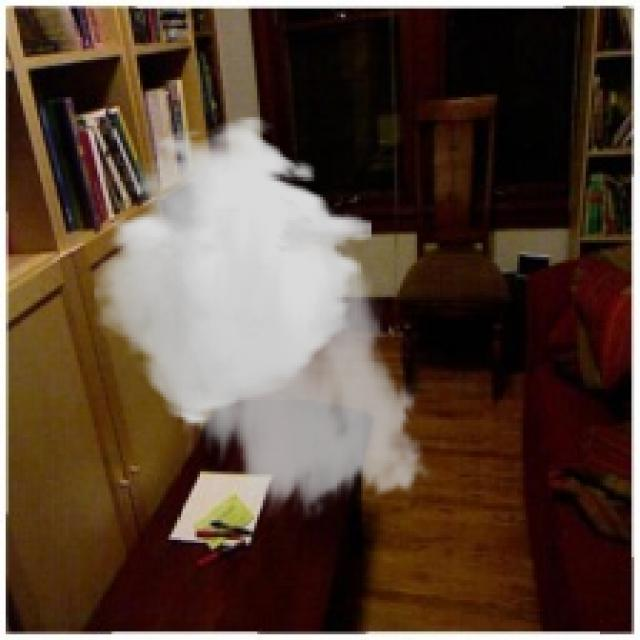smoke: (94, 114, 437, 520)
